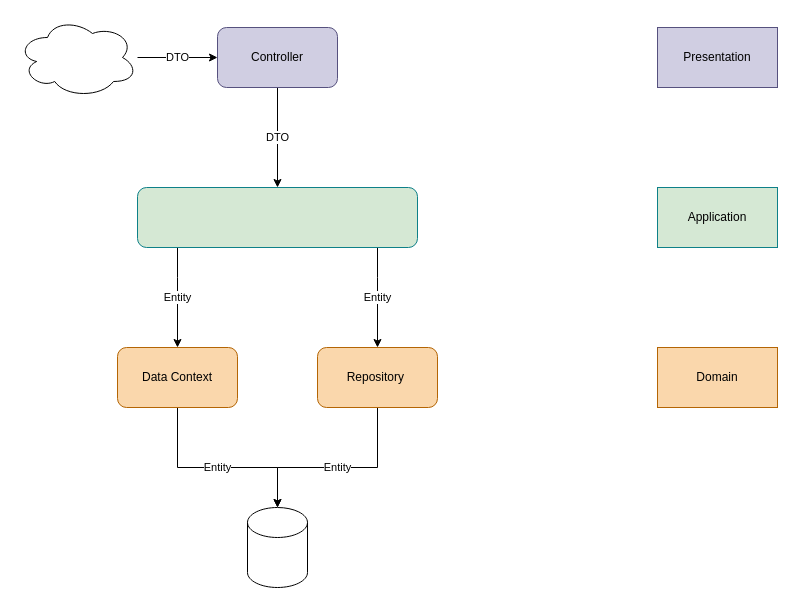
Image size: 795x605. Some labels were removed from this diagram. Here are the shapes that lost their labels. From the top down, the box of each, then its label:
(16, 16, 138, 98): Request
(136, 186, 418, 248): Service
(246, 506, 308, 588): Database
